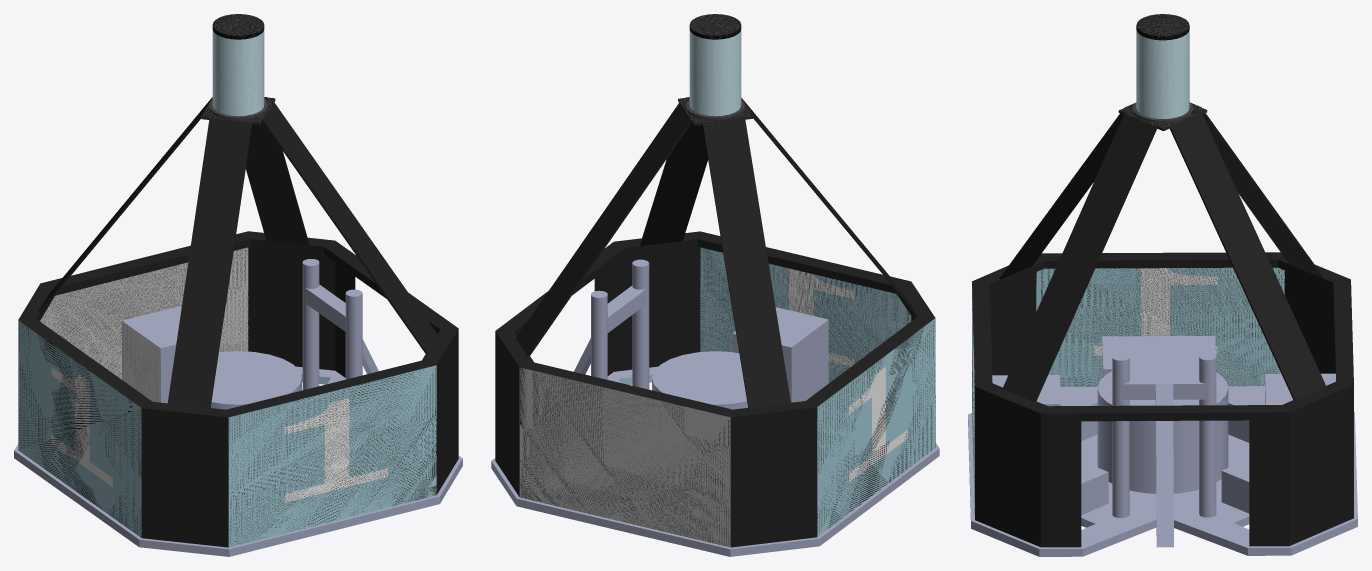
File: nubot_frame2.dae
The picture shows the model from 3 angles, left to right: view 1: azimuth 30°, elevation 25°; view 2: azimuth 150°, elevation 25°; view 3: azimuth 270°, elevation 25°; orthographic projection. The views are drawn at different scales.
Parts seen in each view (by area): view 1: SketchUp (×9), 支撑2, 支撑3, 摄像头 (×2), 支撑4, 射门, 支撑; view 2: SketchUp (×9), 支撑, 支撑4, 摄像头 (×2), 支撑3, 射门, 支撑2; view 3: SketchUp (×15), 支撑3, 支撑4, 射门 (×2), 摄像头 (×2), 支撑2, 支撑.
Part boxes in pixels (bbox=[...]): SketchUp (×9): bbox=[14, 231, 462, 556]; 支撑2: bbox=[167, 118, 252, 408]; 支撑3: bbox=[262, 102, 438, 354]; 摄像头 (×2): bbox=[212, 14, 264, 116]; 支撑4: bbox=[246, 122, 309, 245]; 射门: bbox=[302, 259, 362, 390]; 支撑: bbox=[38, 97, 212, 312]; SketchUp (×9): bbox=[491, 231, 939, 556]; 支撑: bbox=[702, 117, 790, 408]; 支撑4: bbox=[516, 102, 691, 356]; 摄像头 (×2): bbox=[689, 14, 741, 116]; 支撑3: bbox=[640, 122, 708, 245]; 射门: bbox=[591, 259, 649, 389]; 支撑2: bbox=[741, 98, 914, 310]; SketchUp (×15): bbox=[968, 252, 1357, 556]; 支撑3: bbox=[1002, 113, 1157, 401]; 支撑4: bbox=[1169, 113, 1326, 400]; 射门 (×2): bbox=[1112, 353, 1216, 547]; 摄像头 (×2): bbox=[1136, 14, 1189, 118]; 支撑2: bbox=[999, 107, 1124, 279]; 支撑: bbox=[1191, 103, 1323, 277].
Size of the model in its own units: 18.15 by 17.68 by 22.48.
